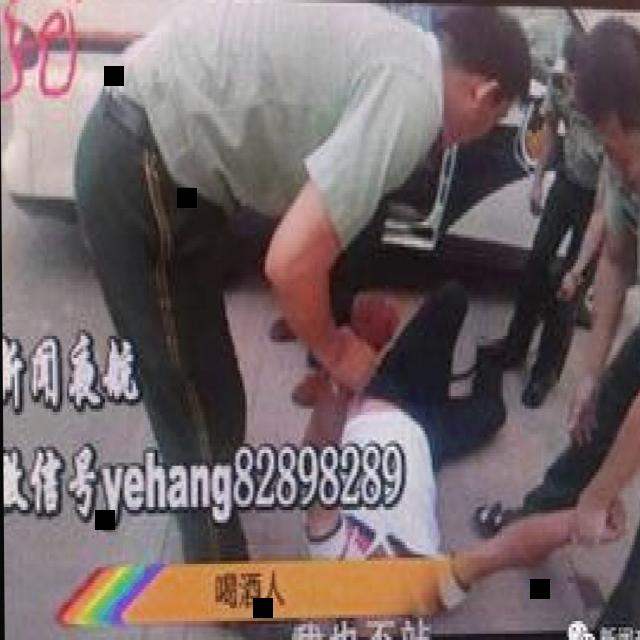Fall-Detected: (271, 237, 544, 640)
